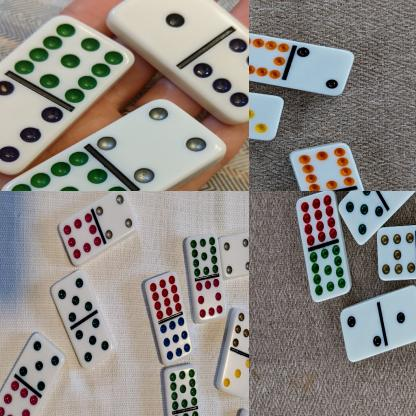pip-1: (121, 0, 223, 60), (380, 285, 416, 345)
pip-10: (288, 143, 355, 191), (249, 31, 292, 80)
pip-11: (14, 16, 132, 103), (11, 149, 126, 191), (310, 242, 350, 302), (164, 366, 198, 408), (186, 234, 219, 276)
pip-12: (295, 191, 336, 245), (144, 271, 181, 320)
pip-2: (291, 42, 353, 96), (339, 302, 382, 360)
pip-3: (249, 89, 282, 140), (220, 354, 249, 397)
pip-4: (97, 99, 225, 185), (96, 191, 137, 239), (220, 236, 249, 279)
pip-5: (19, 331, 63, 391), (337, 191, 382, 244), (50, 270, 92, 324), (74, 318, 113, 369)
pip-6: (0, 80, 62, 162), (191, 36, 249, 121)
pip-7: (376, 222, 416, 280), (231, 308, 249, 354)
pip-8: (58, 210, 100, 265), (194, 277, 226, 321), (0, 378, 37, 416)
pip-9: (160, 317, 192, 362)
